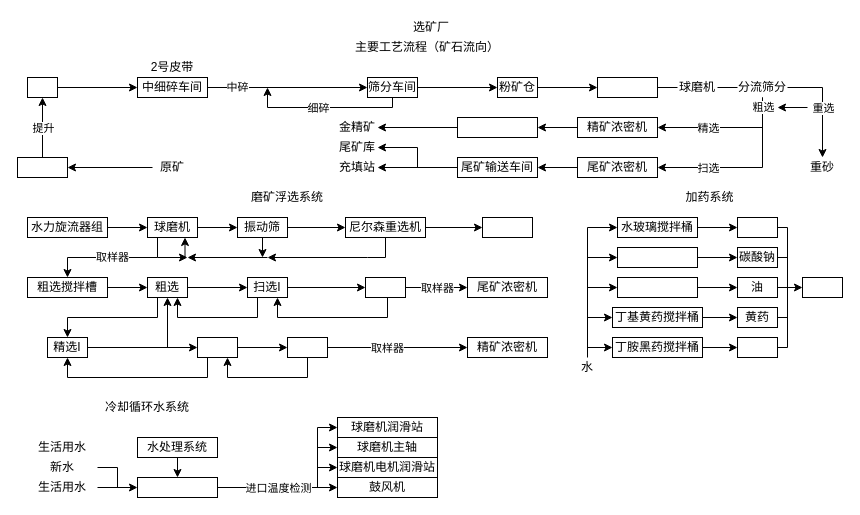
Image size: 860x515. Some labels were removed from this diagram. Here are the shapes that lost their labels. From the top down, the centre of each, then its label:
At pixel 42 87: "主井".
At pixel 627 87: "磨浮车间".
At pixel 497 127: "精矿压滤车间".
At pixel 42 167: "井下粗碎".
At pixel 507 227: "重砂箱".
At pixel 757 227: "水玻璃".
At pixel 657 257: "碳酸钠搅拌桶".
At pixel 385 287: "扫选II".
At pixel 657 287: "备用搅拌桶".
At pixel 822 287: "加药机".
At pixel 217 347: "精选II".
At pixel 307 347: "精选III".
At pixel 757 347: "黑药".
At pixel 177 487: "冷却循环池".
